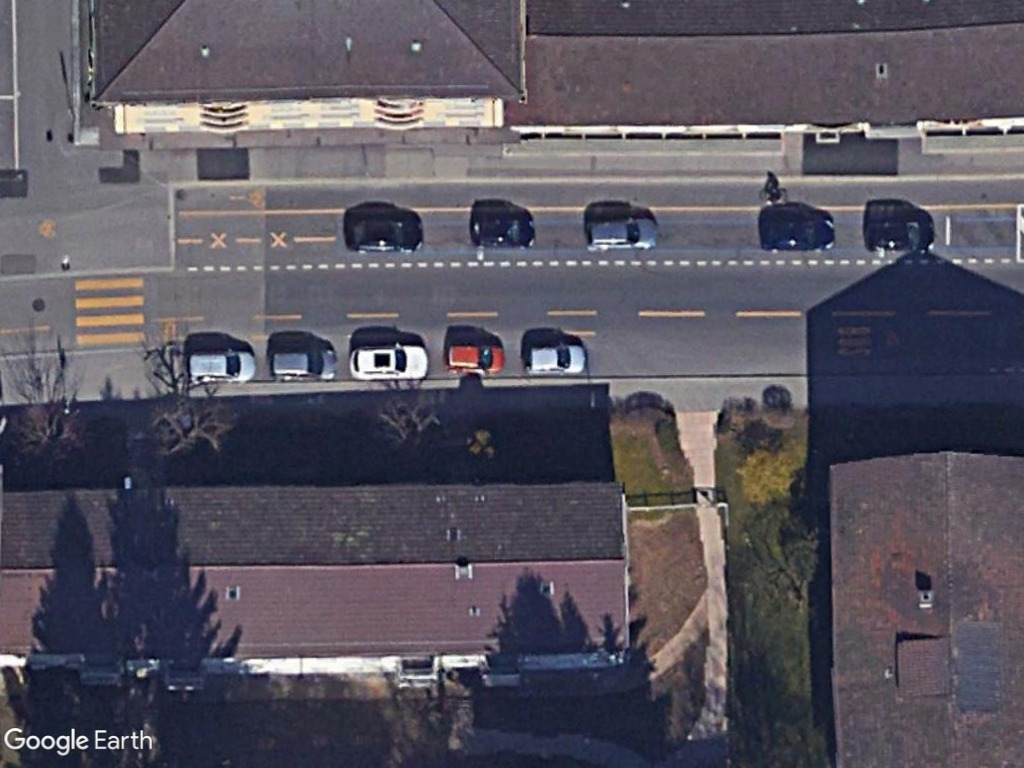car: (349, 340, 431, 382), (582, 214, 660, 253), (184, 348, 259, 384), (268, 346, 341, 382), (523, 340, 589, 376), (442, 340, 508, 375)
